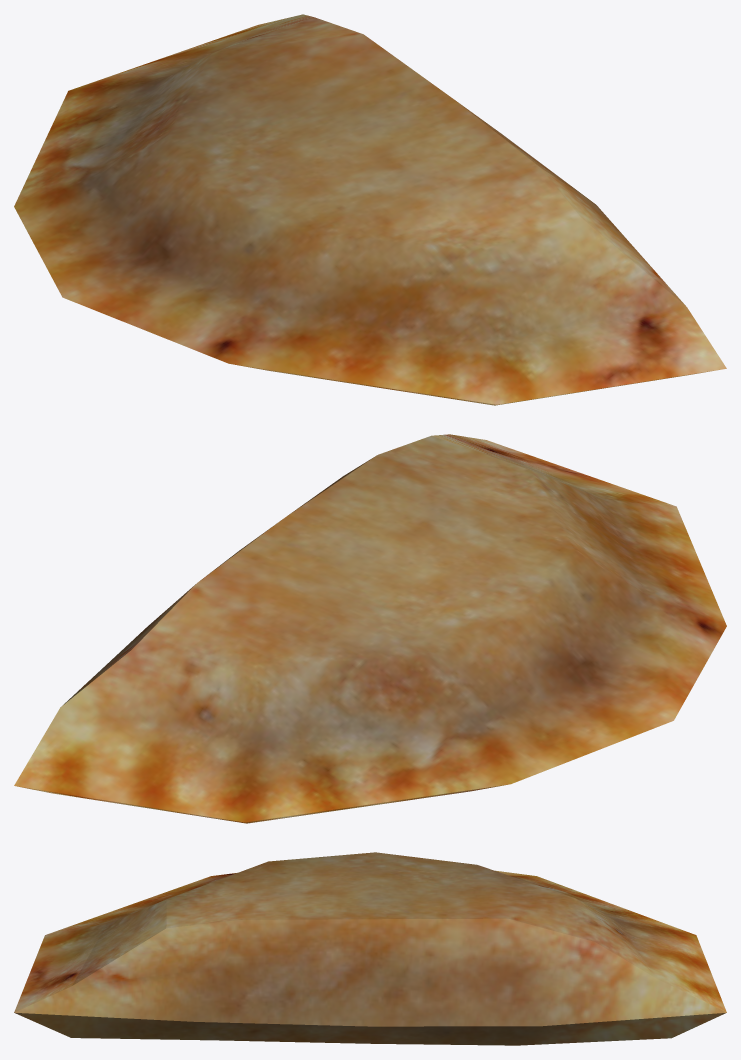
Rendered from MeatPies_2whole.fbx.
The picture shows the model from 3 angles, top to bottom: view 1: azimuth 30°, elevation 25°; view 2: azimuth 150°, elevation 25°; view 3: azimuth 270°, elevation 25°; orthographic projection. The views are drawn at different scales.
Parts seen in each view (by area): view 1: MeatPies_2whole; view 2: MeatPies_2whole; view 3: MeatPies_2whole.
Part boxes in pixels (x1=…): MeatPies_2whole: x1=14, y1=14, x2=726, y2=405; MeatPies_2whole: x1=14, y1=434, x2=726, y2=823; MeatPies_2whole: x1=14, y1=852, x2=726, y2=1045.
Bounding box in the file's own units: 0.1719 × 0.0506 × 0.3018.
